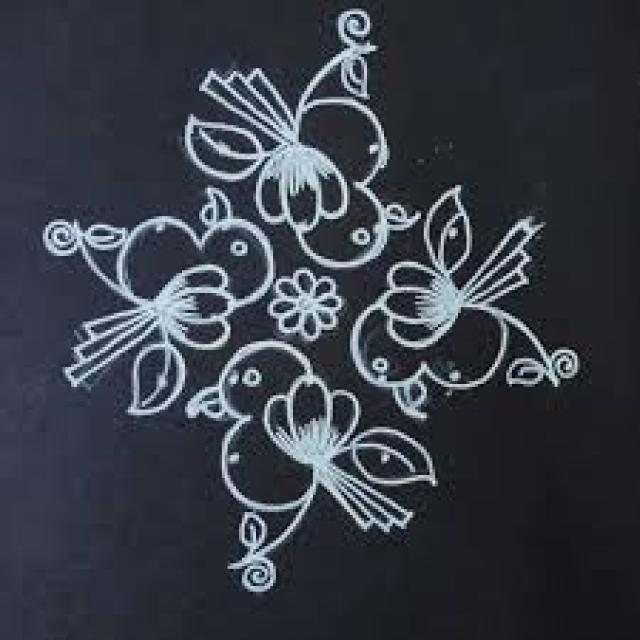rangoli: (27, 1, 591, 609)
